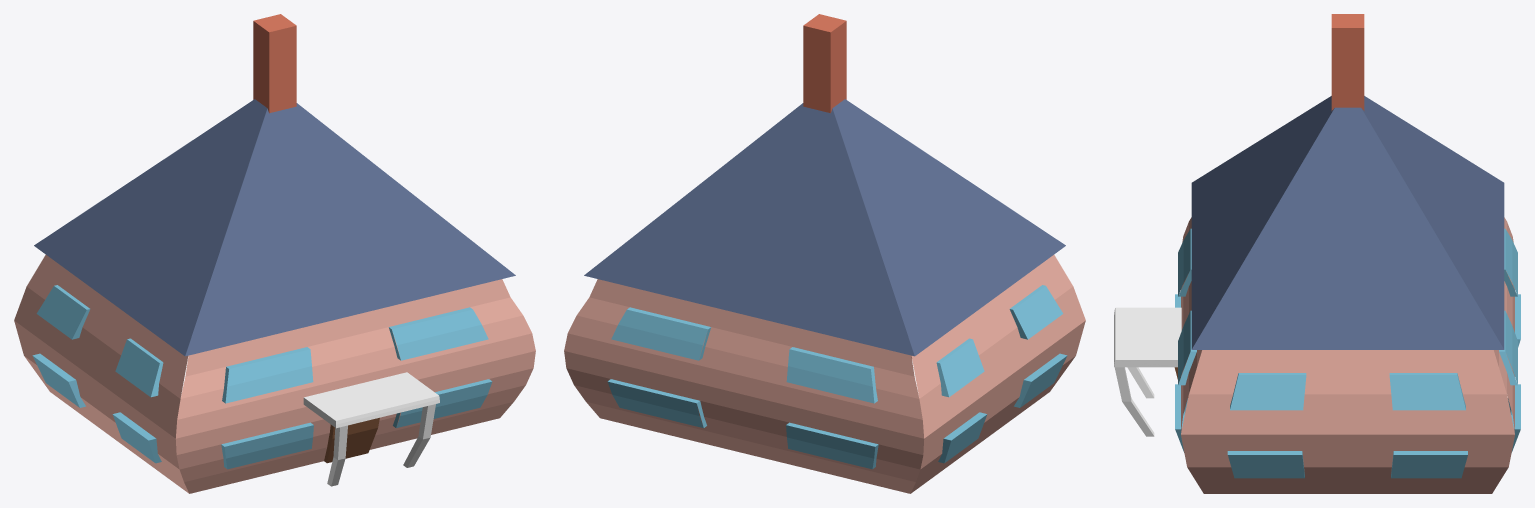
File: house_2.glb
3 renders of one model, left to right at view 1: azimuth 30°, elevation 25°; view 2: azimuth 150°, elevation 25°; view 3: azimuth 270°, elevation 25°, orthographic. The views are drawn at different scales.
Visible parts, largest first — view 1: house_2_roof_slate, house_2_wall_pink, house_2_window, house_2_white, house_2_brick, house_2_door; view 2: house_2_roof_slate, house_2_wall_pink, house_2_window, house_2_brick; view 3: house_2_roof_slate, house_2_wall_pink, house_2_window, house_2_white, house_2_brick.
Boxes of the visible parts, left/top/right/bottom form: house_2_roof_slate: left=34, top=99, right=515, bottom=356; house_2_wall_pink: left=14, top=255, right=535, bottom=493; house_2_window: left=32, top=285, right=492, bottom=469; house_2_white: left=303, top=372, right=439, bottom=486; house_2_brick: left=253, top=14, right=296, bottom=113; house_2_door: left=324, top=417, right=379, bottom=463; house_2_roof_slate: left=584, top=99, right=1065, bottom=356; house_2_wall_pink: left=564, top=255, right=1085, bottom=493; house_2_window: left=607, top=285, right=1067, bottom=469; house_2_brick: left=803, top=14, right=846, bottom=113; house_2_roof_slate: left=1191, top=96, right=1504, bottom=349; house_2_wall_pink: left=1181, top=217, right=1514, bottom=493; house_2_window: left=1175, top=228, right=1520, bottom=478; house_2_white: left=1114, top=307, right=1181, bottom=436; house_2_brick: left=1331, top=14, right=1364, bottom=110.
Bounding box in the file's own units: 11.12 × 11 × 10.27.
